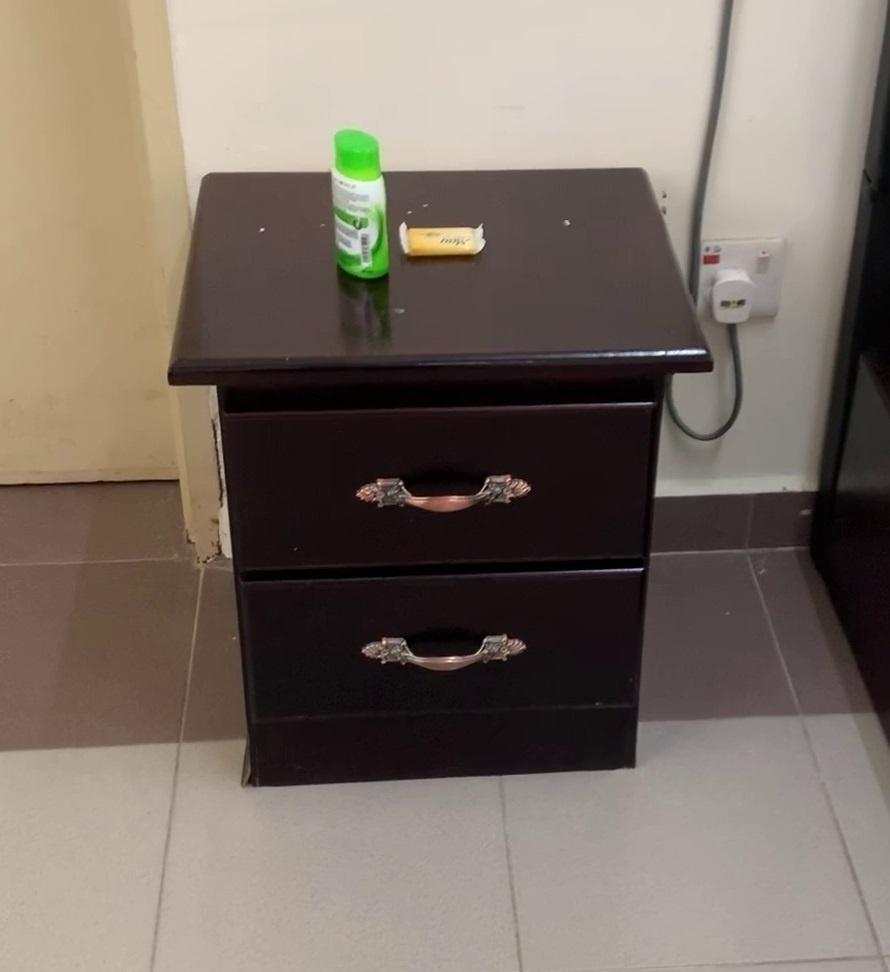cabinet_door: (233, 404, 646, 570), (243, 575, 636, 718)
handle: (356, 470, 539, 532), (363, 625, 532, 690)
